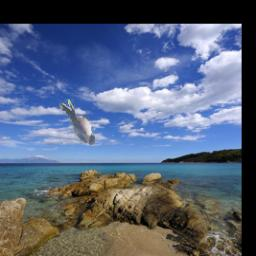Swallow: (60, 100, 96, 146)
